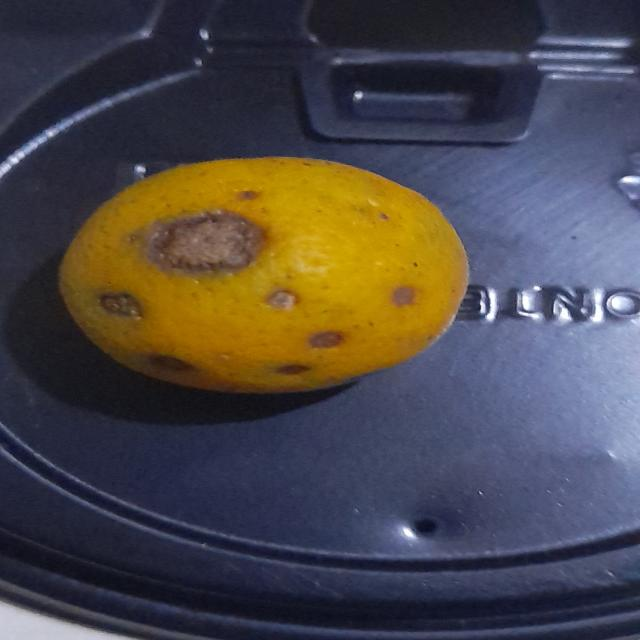black spot: (64, 153, 466, 397)
